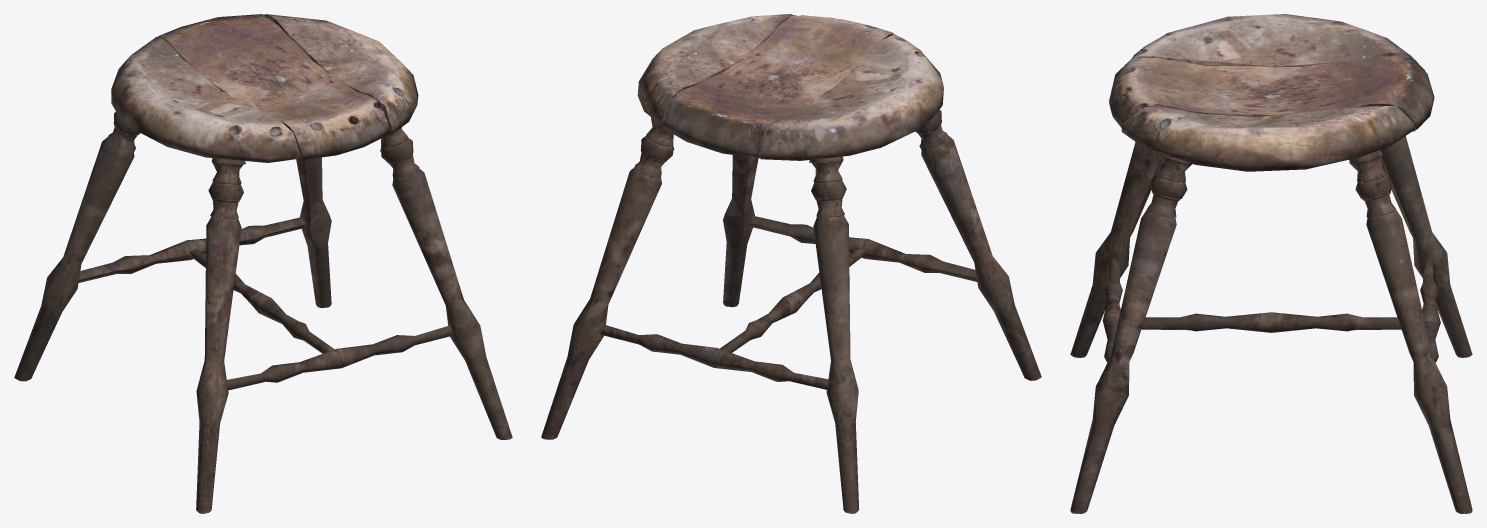
File: ph_wooden_stool_01.glb
3 renders of one model, left to right at view 1: azimuth 30°, elevation 25°; view 2: azimuth 150°, elevation 25°; view 3: azimuth 270°, elevation 25°, orthographic. The views are drawn at different scales.
Visible parts, largest first — view 1: wooden_stool_01; view 2: wooden_stool_01; view 3: wooden_stool_01.
Boxes of the visible parts, <box> form: wooden_stool_01: <box>14,14,512,513</box>; wooden_stool_01: <box>541,14,1041,513</box>; wooden_stool_01: <box>1070,14,1472,513</box>.
Bounding box in the file's own units: 0.4246 × 0.4374 × 0.4424.
1 material, 1 textured.
